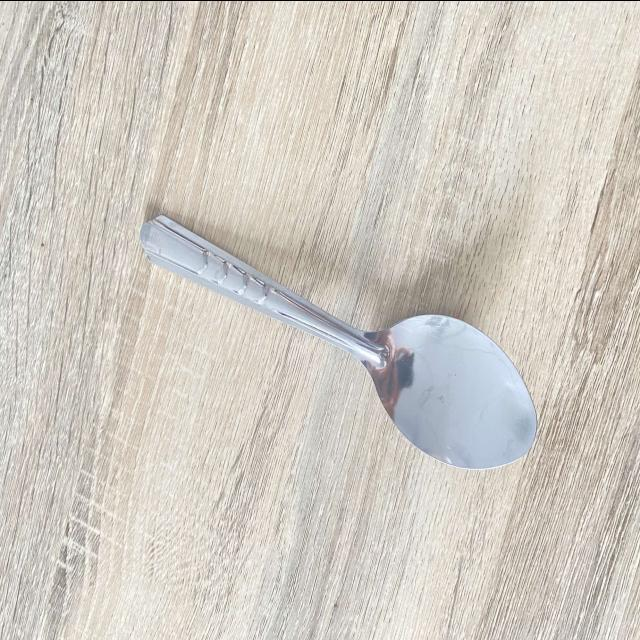spoon: (130, 207, 561, 472)
